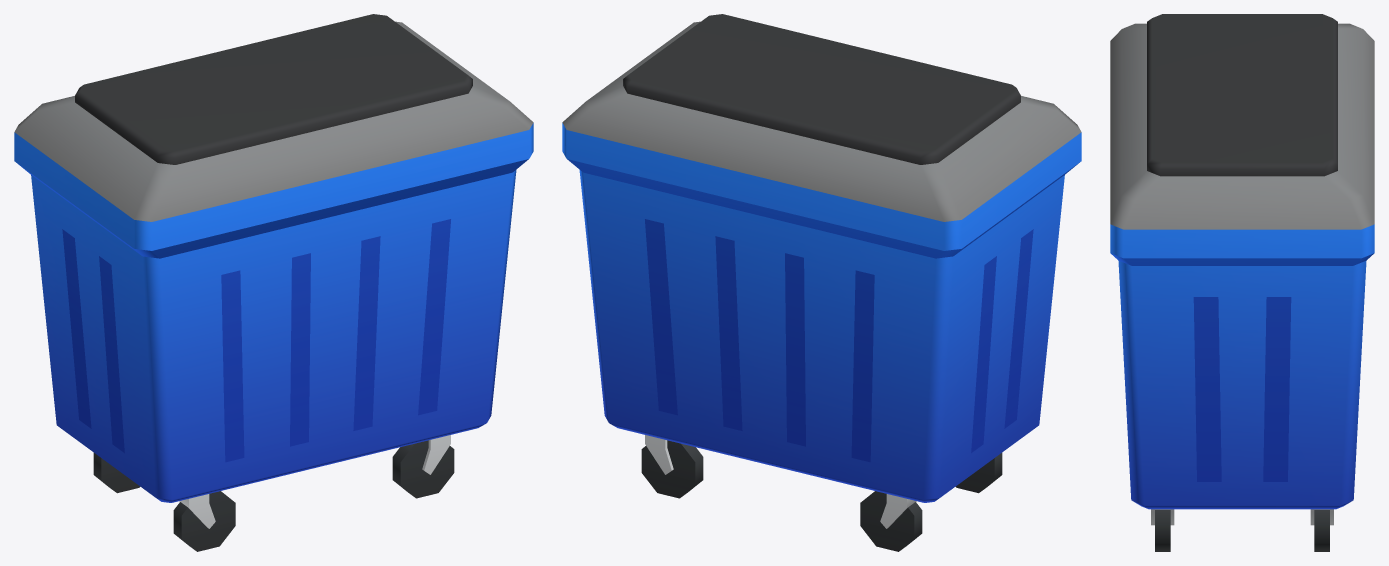
File: Trash_Can_01.glb
3 renders of one model, left to right at view 1: azimuth 30°, elevation 25°; view 2: azimuth 150°, elevation 25°; view 3: azimuth 270°, elevation 25°, orthographic.
Visible parts, largest first — view 1: Trash_Can_01; view 2: Trash_Can_01; view 3: Trash_Can_01.
Boxes of the visible parts, x1,y1,x2,y2 form: Trash_Can_01: (14, 14, 533, 551); Trash_Can_01: (562, 14, 1081, 551); Trash_Can_01: (1110, 14, 1374, 551).
Size of the model in its own units: 1.9 by 1.85 by 1.1.
1 material, 1 textured.
